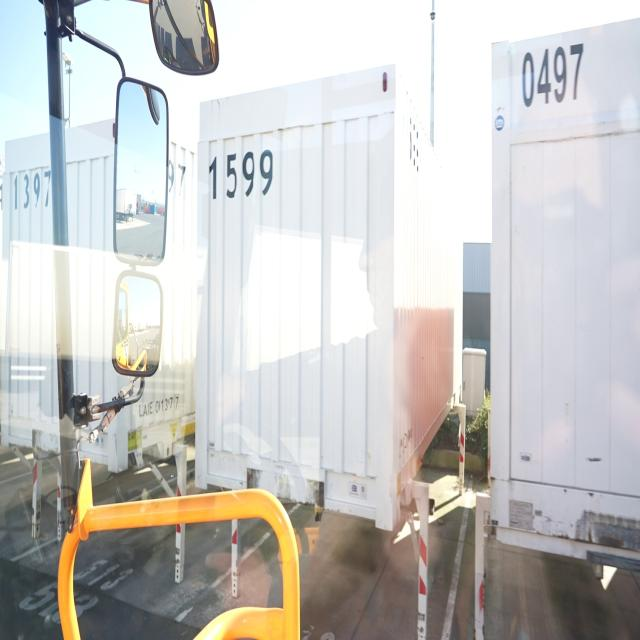Code: (522, 40, 587, 115), (208, 147, 274, 202), (12, 166, 54, 217)
